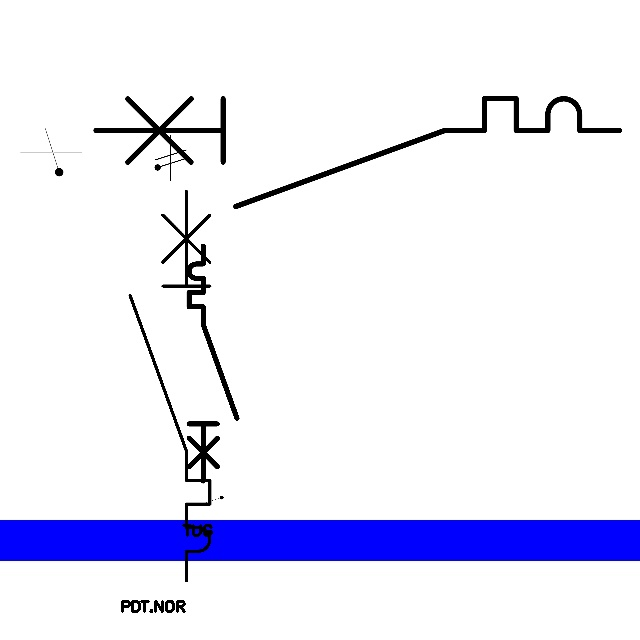interruptor_termomagnetico: (82, 85, 633, 220), (120, 181, 220, 591), (183, 240, 243, 487)
